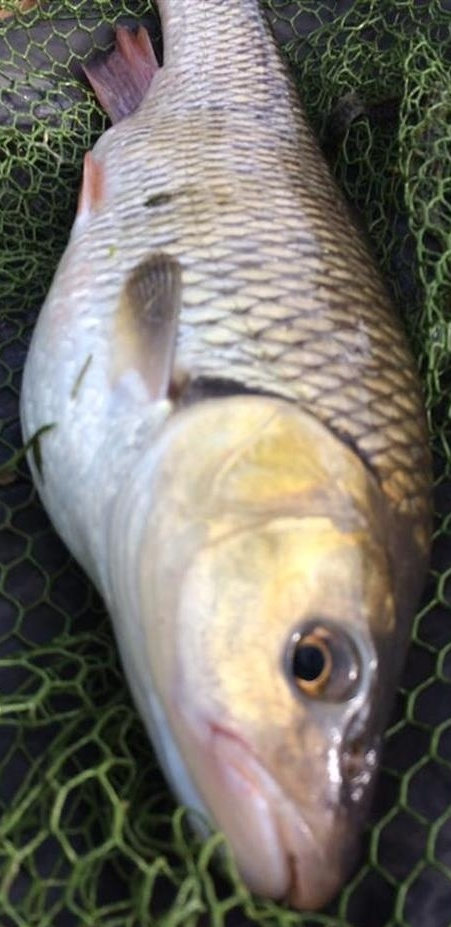Leuciscus cephalus: (20, 1, 431, 907)
